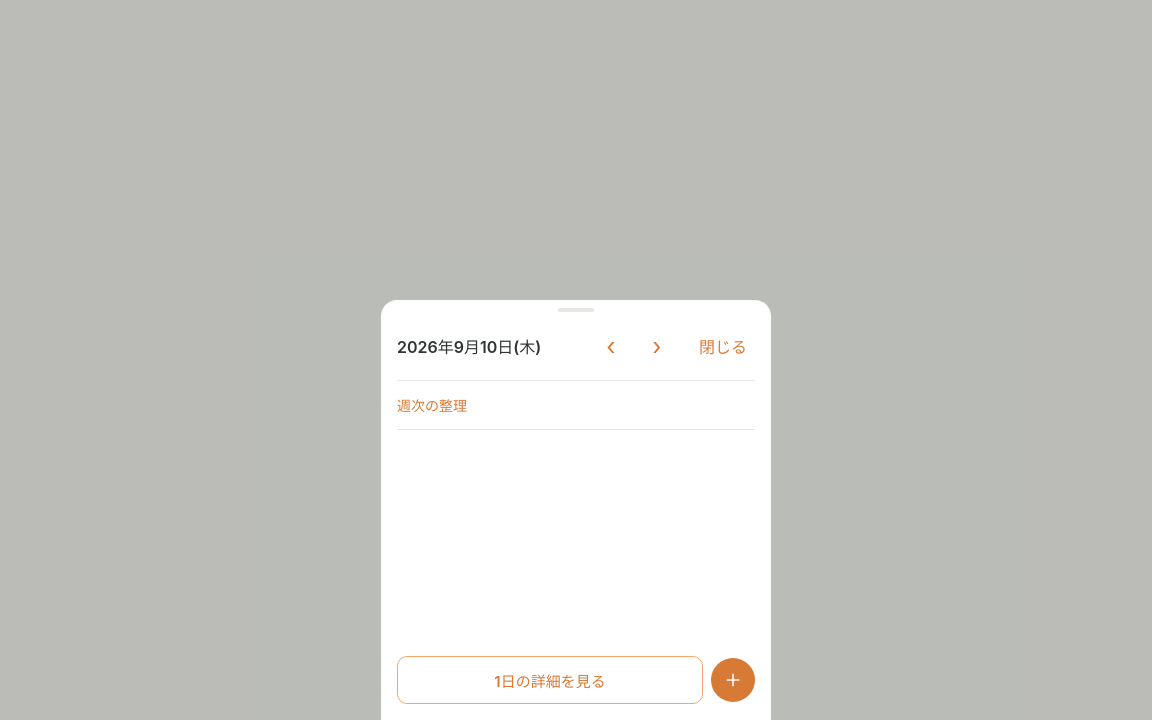
Test case: period projection row identity › expands only the tapped period projection row
This screenshot has width=1152, height=720.
Click the button "週次の整理": (432,406) [397, 381, 755, 429]
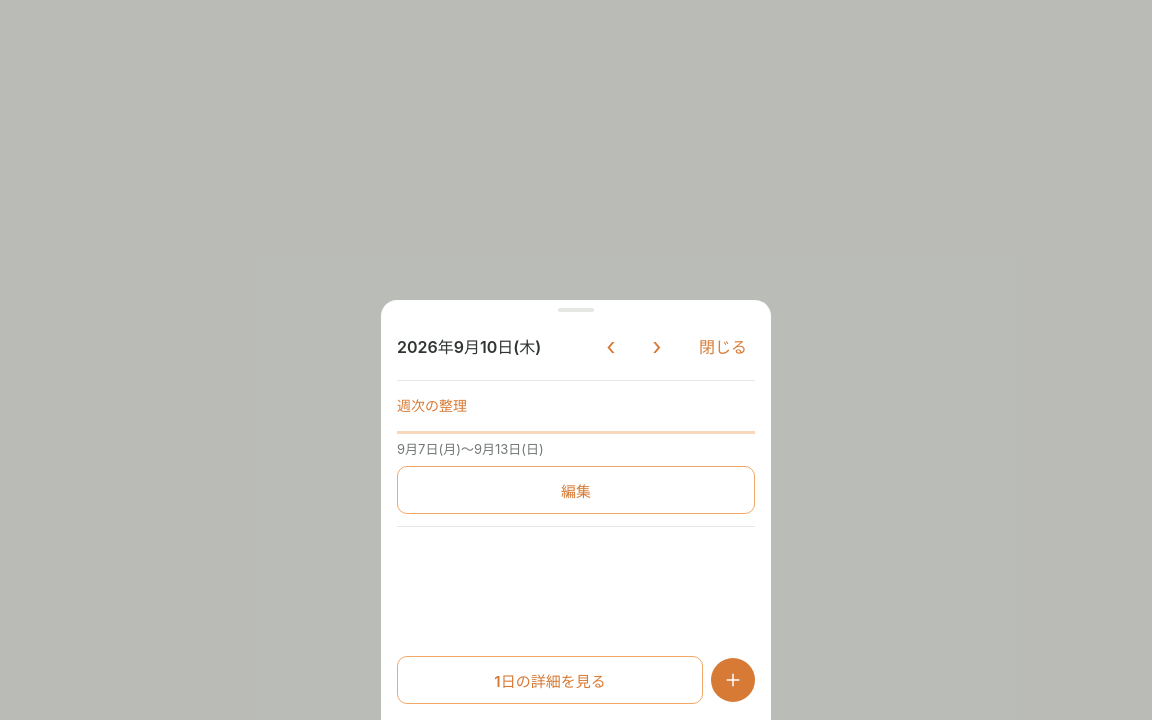
Expected: the number of buttons "編集" is 1, [397, 466, 755, 514]
